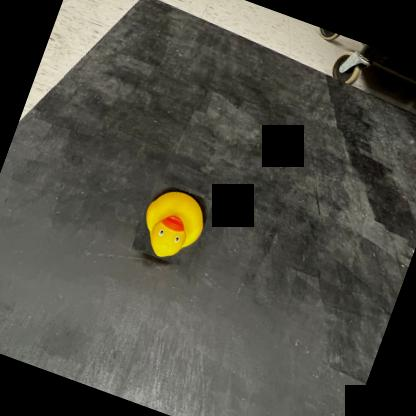duck: (130, 180, 212, 268)
